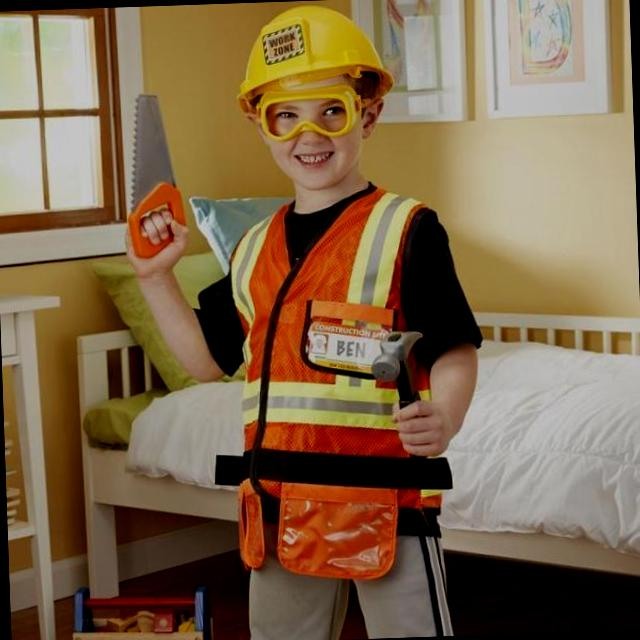helmet: (230, 0, 399, 117)
no-gloves: (105, 172, 252, 378), (366, 307, 512, 470)
vest: (225, 190, 446, 581)
